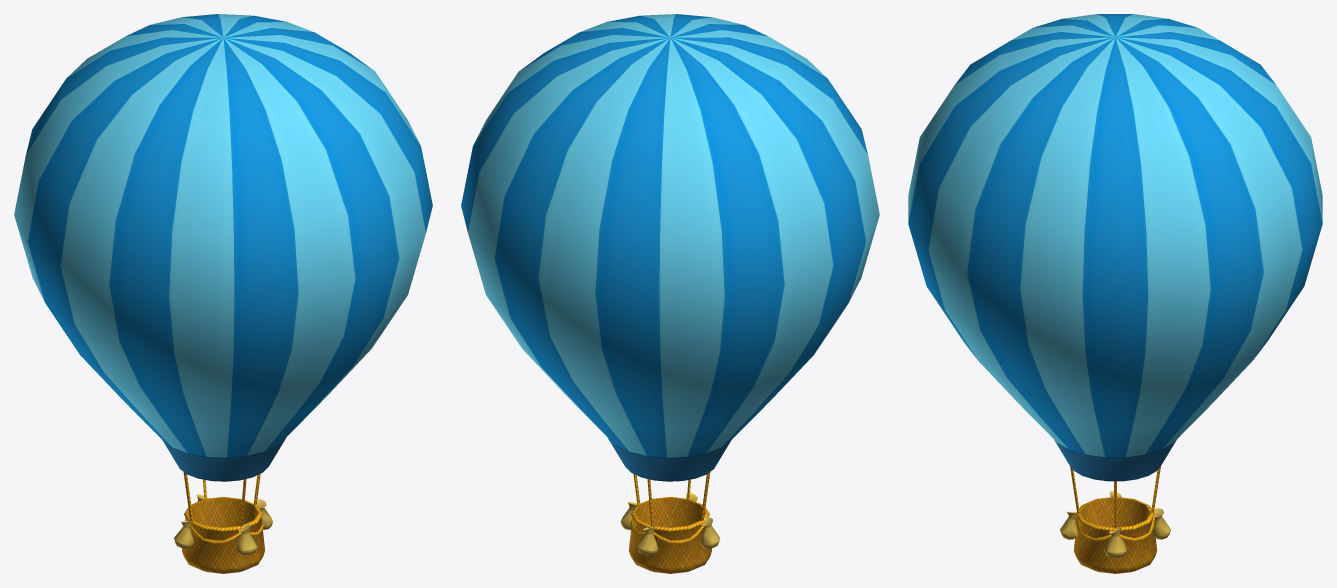
Rendered from HOS0910007.fbx.
The picture shows the model from 3 angles, left to right: view 1: azimuth 30°, elevation 25°; view 2: azimuth 150°, elevation 25°; view 3: azimuth 270°, elevation 25°; orthographic projection.
Parts seen in each view (by area): view 1: smHOS0910007; view 2: smHOS0910007; view 3: smHOS0910007.
Part boxes in pixels (x1,y1,x2,y2): smHOS0910007: [14, 14, 432, 573]; smHOS0910007: [461, 14, 879, 573]; smHOS0910007: [908, 14, 1322, 573].
Bounding box in the file's own units: 799 × 1112 × 799.
Materials: 1 (1 with a texture image).
